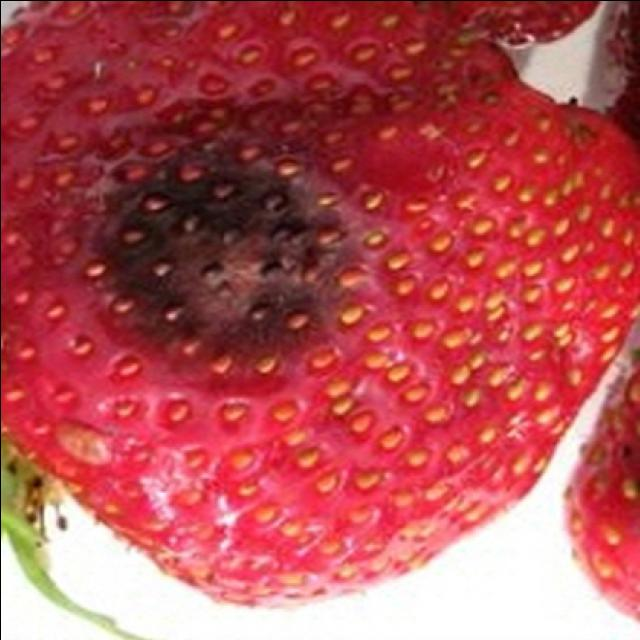Anthracnose Fruit Rot: (111, 175, 342, 333)
